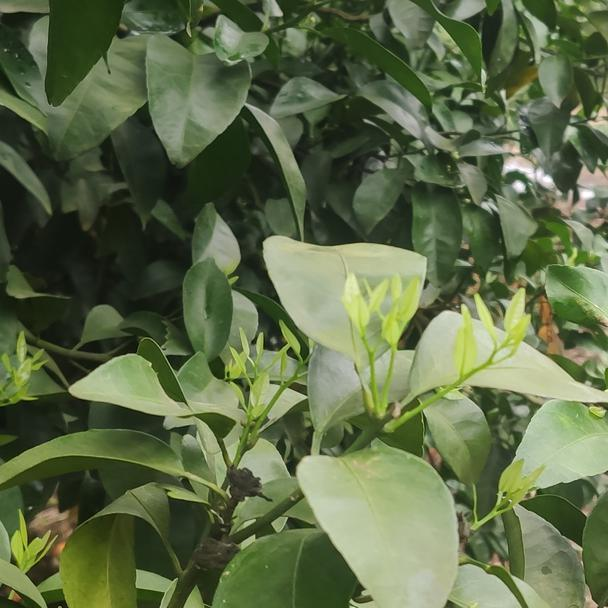shoot: (452, 296, 534, 395), (352, 278, 417, 365), (228, 333, 282, 421), (11, 512, 57, 584), (490, 458, 540, 524)
